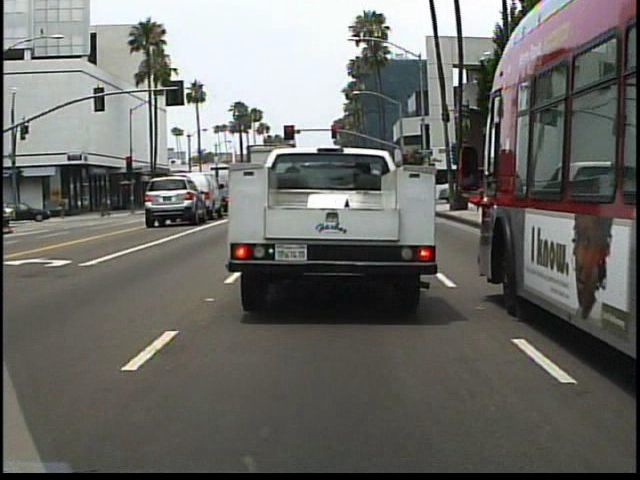person: (60, 192, 71, 219)
